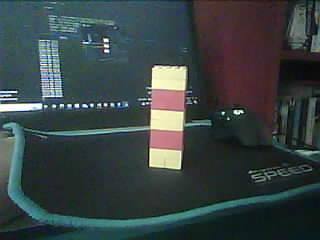lego: (149, 65, 188, 170)
